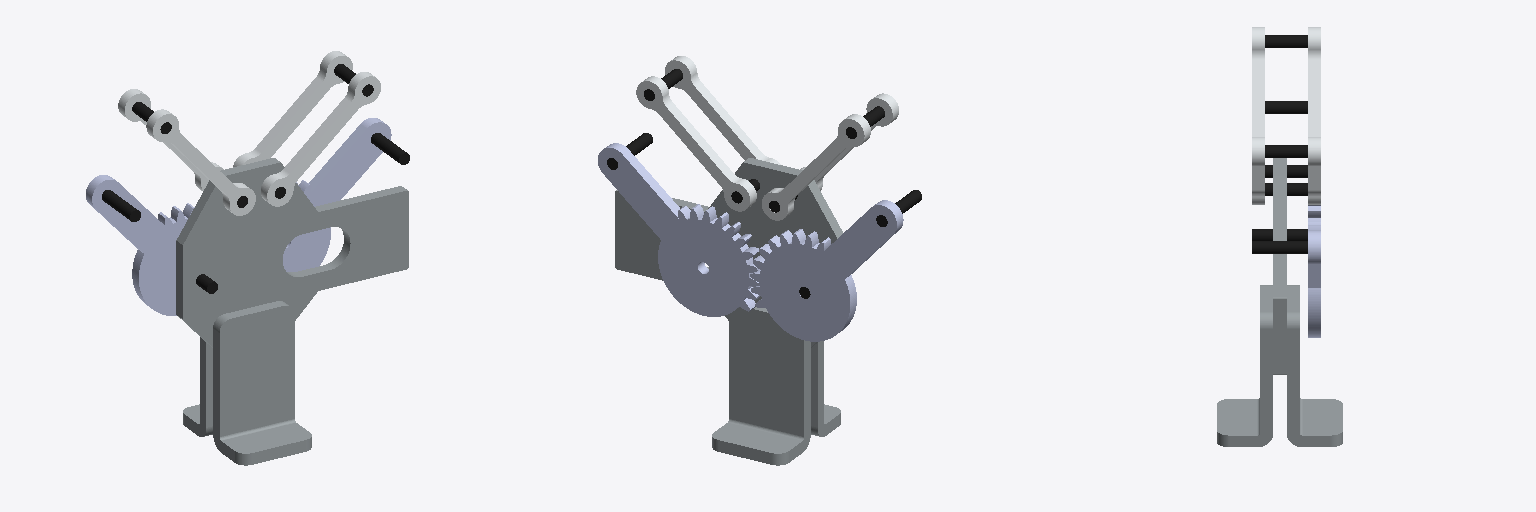
The model's file is pinza_base_nueva.obj.
3 renders of one model, left to right at view 1: azimuth 30°, elevation 25°; view 2: azimuth 150°, elevation 25°; view 3: azimuth 270°, elevation 25°, orthographic.
Visible parts, largest first — view 1: Fillet1, Fillet6, Cut_Extrude1, Boss_Extrude1; view 2: Cut_Extrude1, Fillet1, Fillet6, Boss_Extrude1; view 3: Fillet1, Boss_Extrude1, Fillet6, Cut_Extrude1.
Boxes of the visible parts, box(x1,y1,x2,y2) form: Fillet1: box(118, 51, 380, 465); Fillet6: box(176, 158, 408, 347); Cut_Extrude1: box(86, 118, 391, 315); Boss_Extrude1: box(102, 64, 409, 293); Cut_Extrude1: box(598, 143, 903, 341); Fillet1: box(636, 56, 898, 465); Fillet6: box(615, 158, 842, 347); Boss_Extrude1: box(607, 69, 921, 298); Fillet1: box(1217, 27, 1342, 446); Boss_Extrude1: box(1252, 35, 1307, 253); Fillet6: box(1273, 158, 1286, 374); Cut_Extrude1: box(1308, 205, 1320, 337).
Bounding box in the file's own units: 3.13 × 3.54 × 1.14.